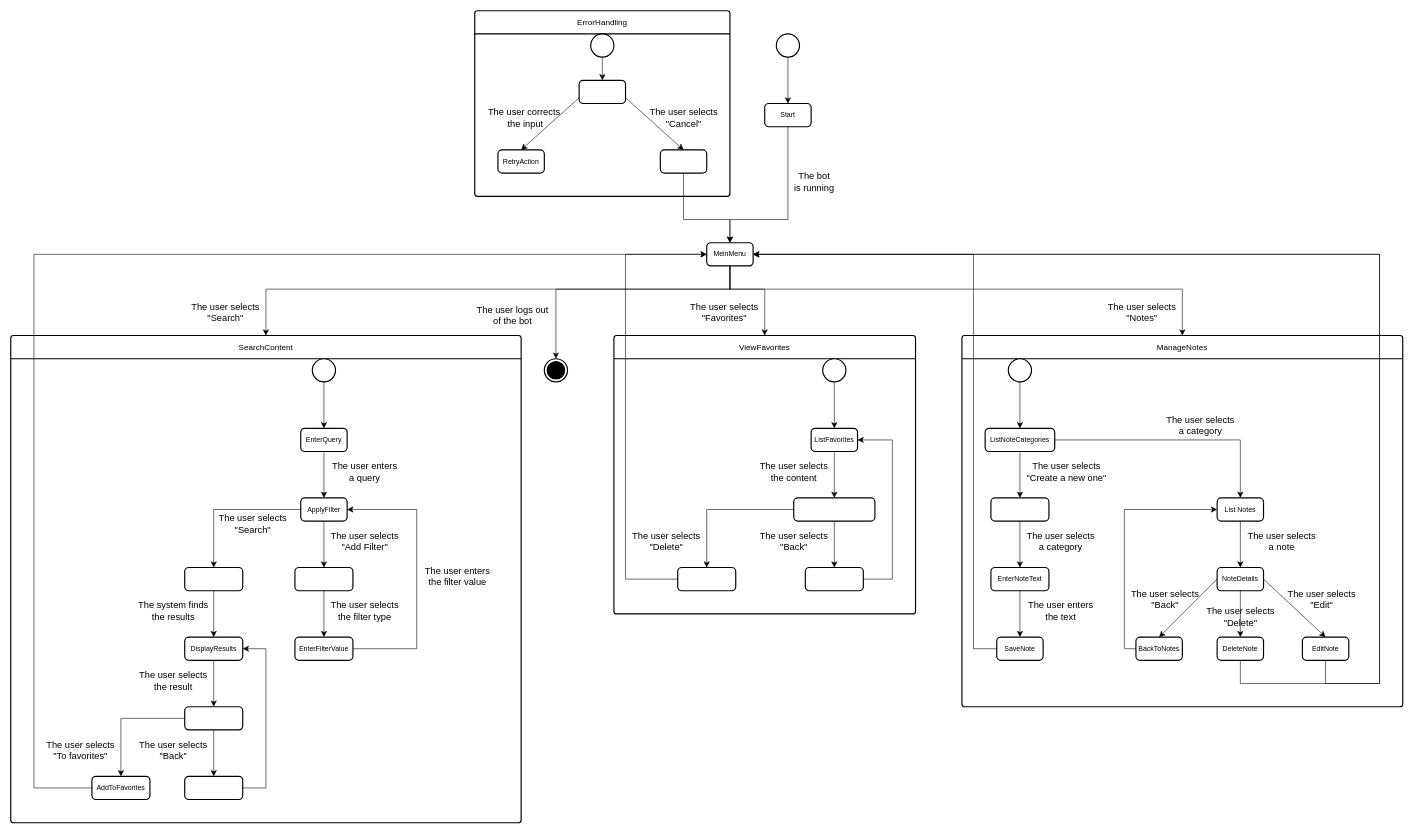
Image size: 1413x833. Some labels were removed from this diagram. The centre of each missing label's shape, as x and y in pixels:
"BackToFavorites" goes at point 834,579.
"BackToResults" goes at point 213,787.
"CancleAction" goes at point 683,161.
"ContentDetails" goes at point 213,718.
"CreateNewNote" goes at point 1019,509.
"ExecuteSearch" goes at point 213,579.
"FavoriteContentDetails" goes at point 834,509.
"InvalidInput" goes at point 602,91.
"RemoveFavorite" goes at point 706,579.
"SelectFilterType" goes at point 323,579.
